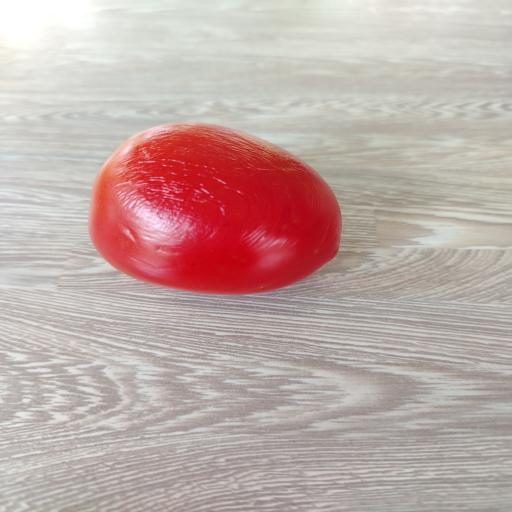spoiled: (89, 123, 341, 294)
